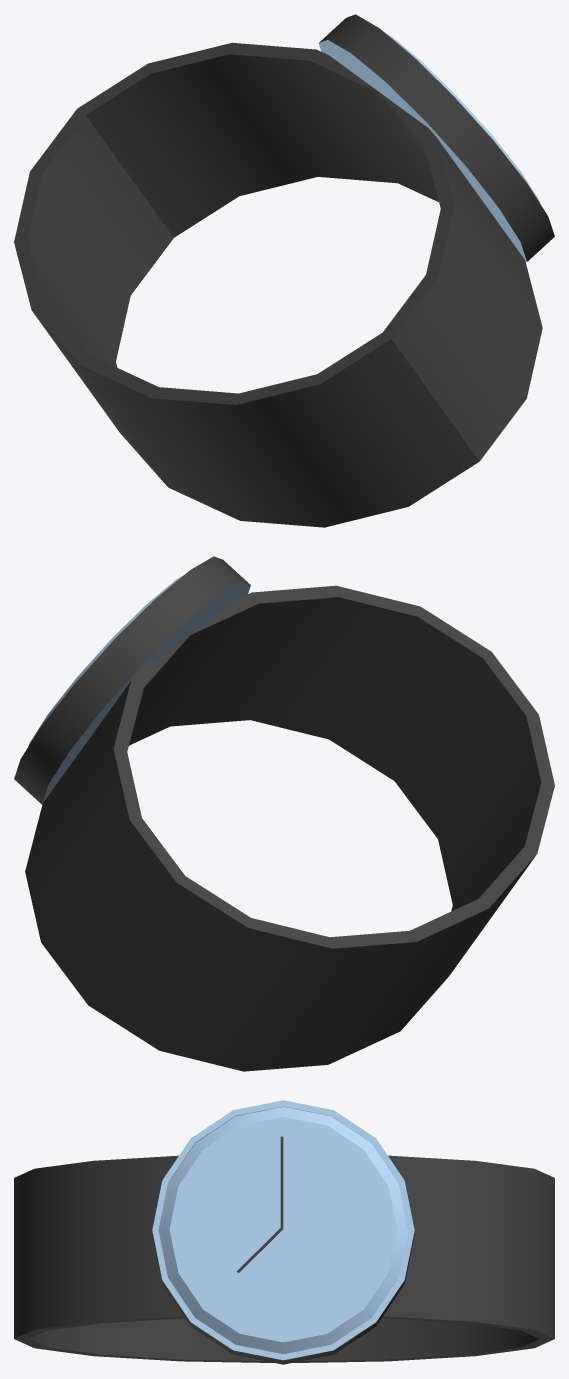
3 views of the same model, one above another, from view 1: azimuth 30°, elevation 25°; view 2: azimuth 150°, elevation 25°; view 3: azimuth 270°, elevation 25° (orthographic). The views are drawn at different scales.
Visible parts, largest first — view 1: Circle.001; view 2: Circle.001; view 3: Circle.001.
Boxes of the visible parts, left/top/right/bottom form: Circle.001: left=14, top=14, right=554, bottom=527; Circle.001: left=14, top=556, right=554, bottom=1071; Circle.001: left=14, top=1100, right=554, bottom=1364.
Size of the model in its own units: 0.1982 by 0.1753 by 0.2446.
